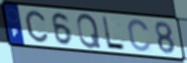6: (51, 11, 74, 47)
8: (154, 20, 176, 55)
C: (126, 18, 153, 54), (24, 10, 50, 44)
L: (101, 15, 127, 52)
Q: (76, 13, 103, 50)
